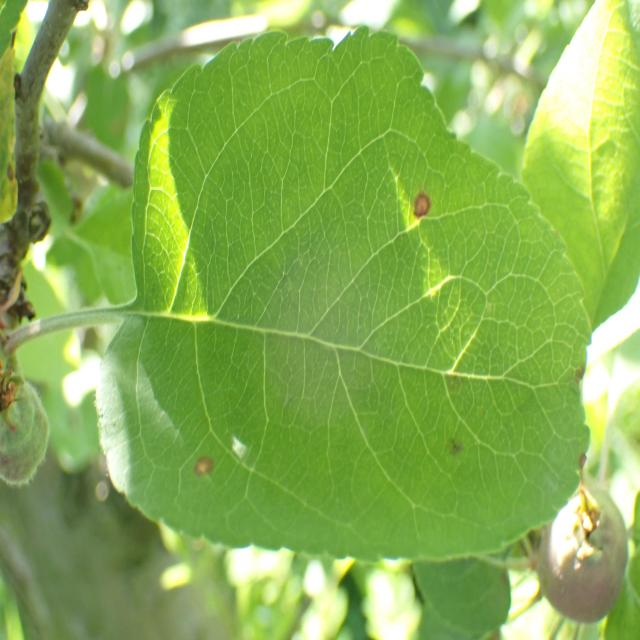Black Rot: (178, 430, 225, 488), (404, 183, 453, 234)
